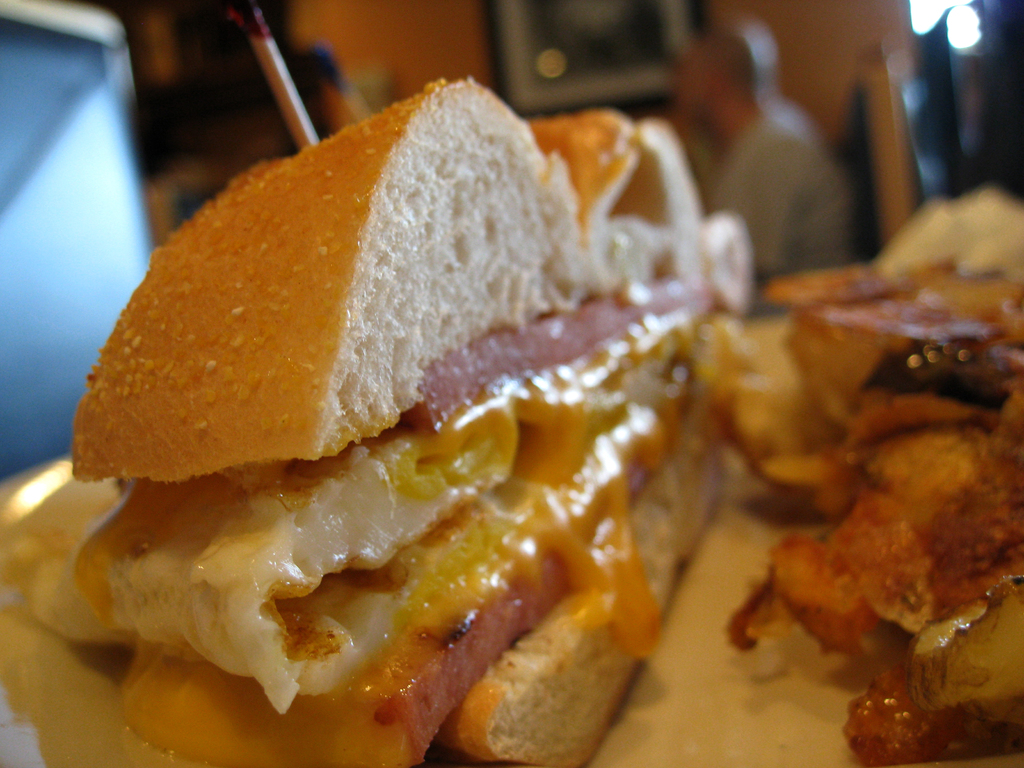sandwich: (0, 74, 758, 767)
